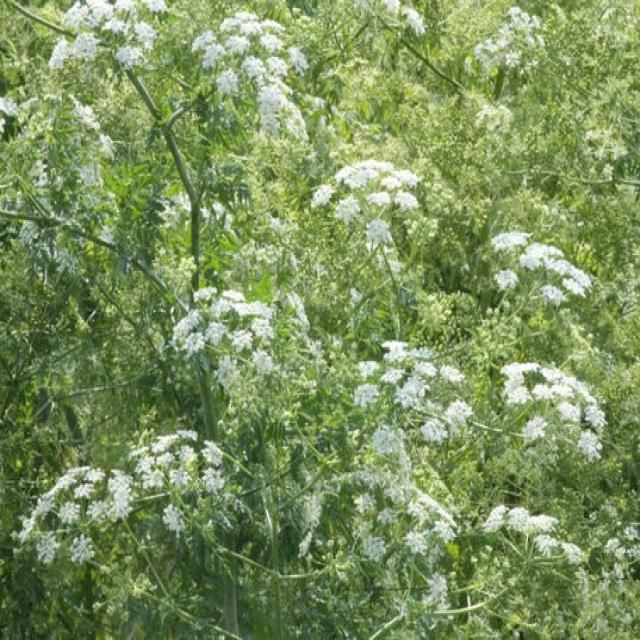Poisonous-Hemlock: (21, 12, 612, 640)
